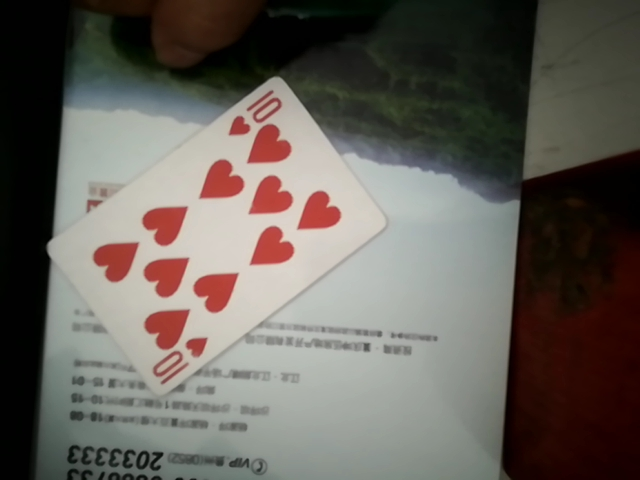hx 10: (58, 78, 376, 388)
